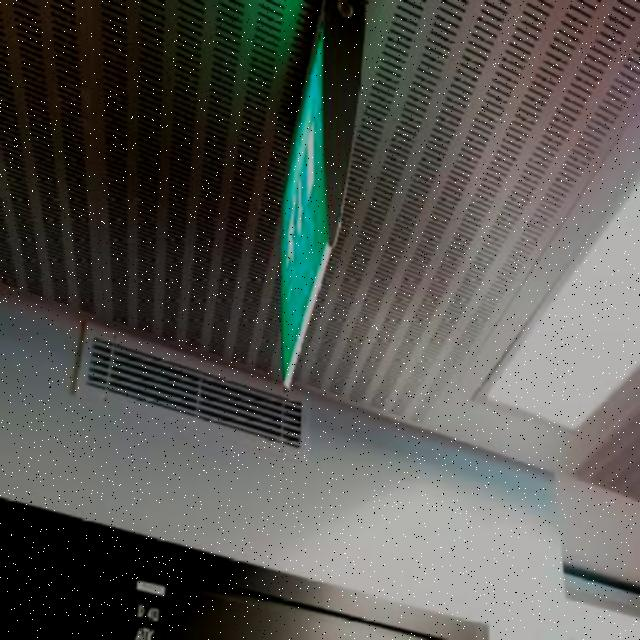emergency_exit: (70, 319, 306, 451), (276, 14, 333, 389)
